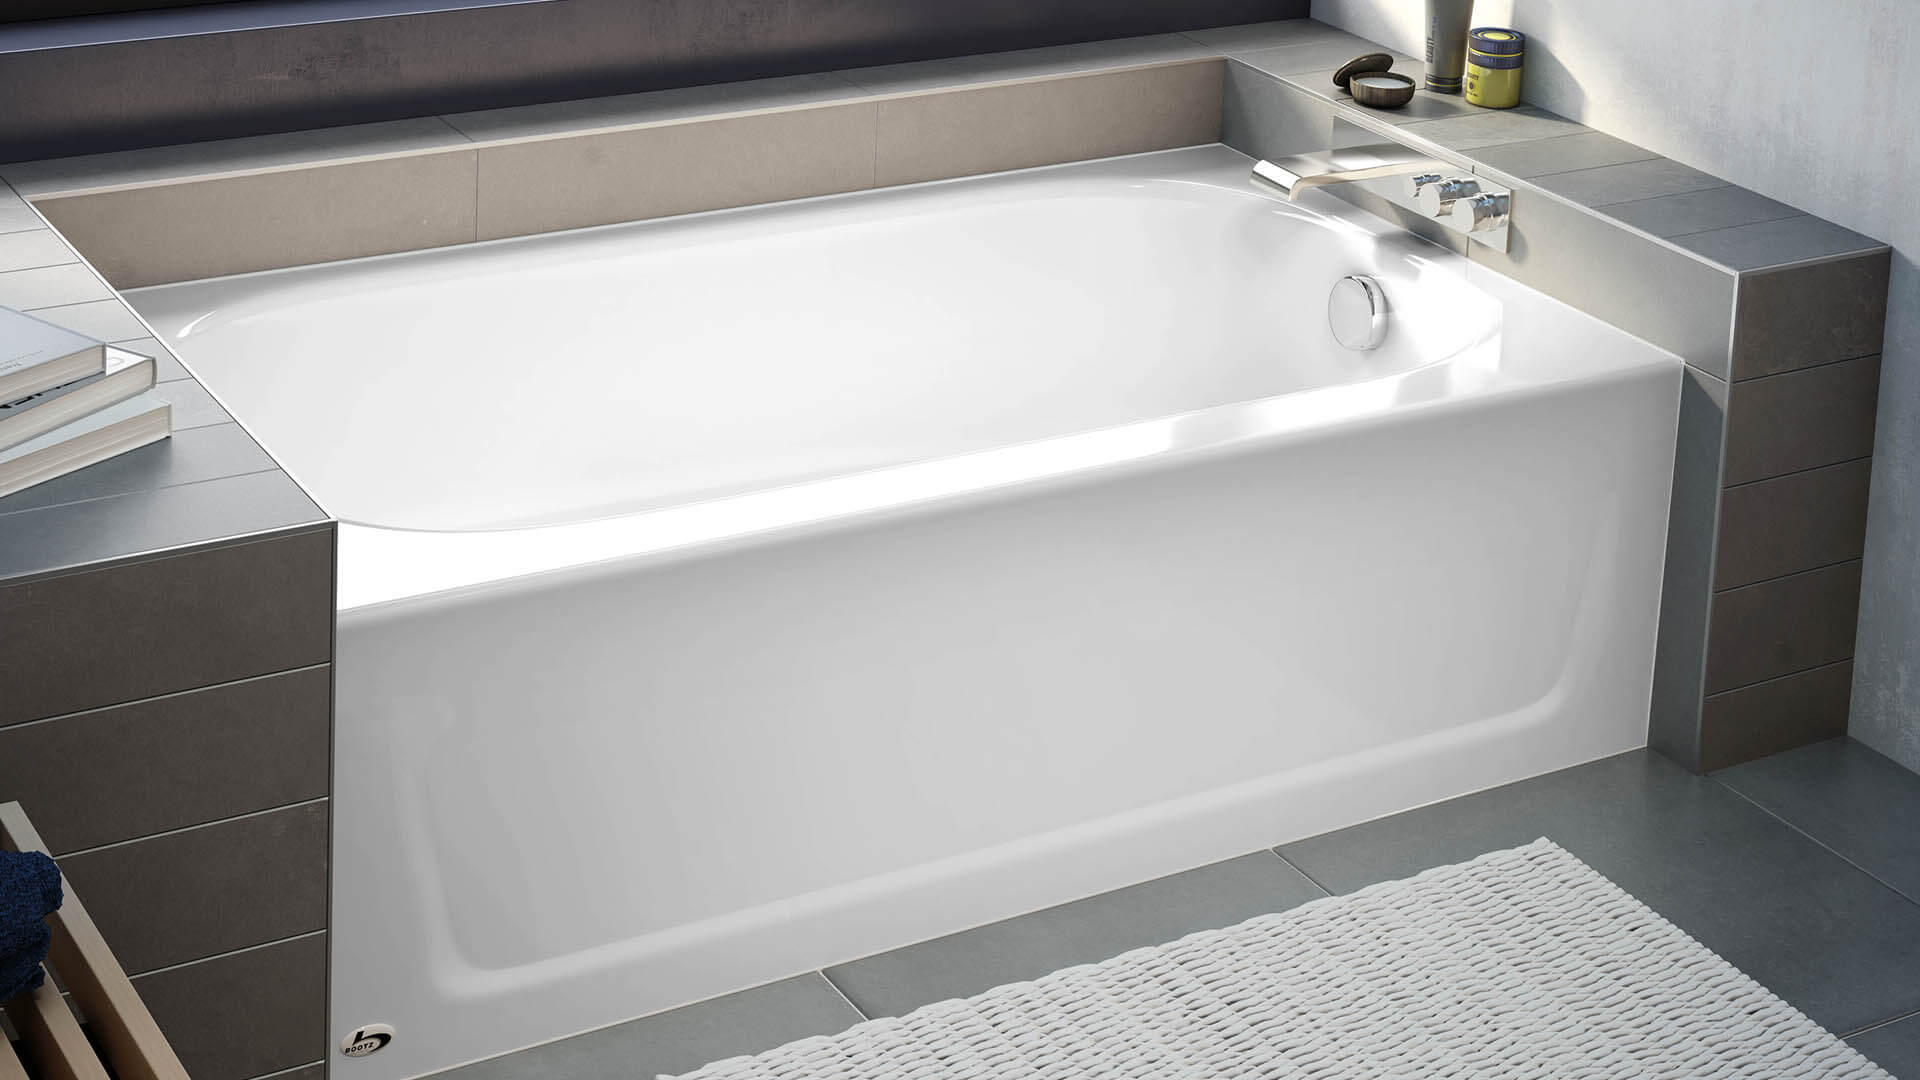bathub: (54, 111, 1745, 1080)
